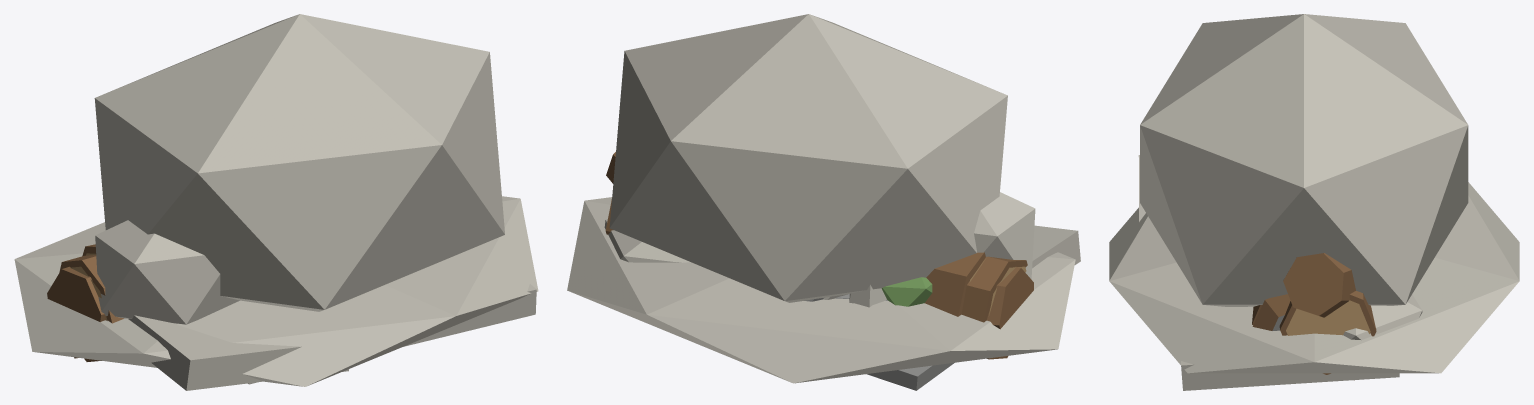
Rendered from naturaleza_suelo.glb.
3 views of the same model, side by side, from view 1: azimuth 30°, elevation 25°; view 2: azimuth 150°, elevation 25°; view 3: azimuth 270°, elevation 25° (orthographic). The views are drawn at different scales.
Visible parts, largest first — view 1: roca_redonda_grande, roca_plana_grande, tronco_curvo, tronco_recto; view 2: roca_redonda_grande, roca_plana_grande, tronco_recto, tronco_hueco, grupo_rocas_bajo, tronco_curvo, roca_musgosa; view 3: roca_redonda_grande, roca_plana_grande, tronco_curvo, tronco_recto, grupo_rocas_bajo, tronco_hueco.
Boxes of the visible parts, box(x1,y1,x2,y2) form: roca_redonda_grande: box(94, 14, 504, 324); roca_plana_grande: box(14, 196, 538, 390); tronco_curvo: box(47, 266, 106, 358); tronco_recto: box(59, 255, 123, 361); roca_redonda_grande: box(609, 14, 1035, 302); roca_plana_grande: box(567, 197, 1080, 390); tronco_recto: box(605, 197, 1027, 359); tronco_hueco: box(925, 252, 985, 316); grupo_rocas_bajo: box(604, 219, 886, 307); tronco_curvo: box(606, 152, 1033, 329); roca_musgosa: box(804, 277, 932, 306); roca_redonda_grande: box(1140, 14, 1468, 306); roca_plana_grande: box(1109, 155, 1519, 390); tronco_curvo: box(1283, 253, 1355, 317); tronco_recto: box(1279, 291, 1376, 380); grupo_rocas_bajo: box(1343, 294, 1422, 340); tronco_hueco: box(1252, 294, 1290, 330).
Size of the model in its own units: 2.41 by 1.44 by 1.79.
